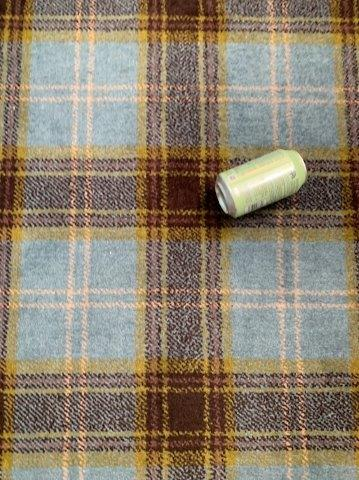kaleng: (215, 149, 309, 218)
